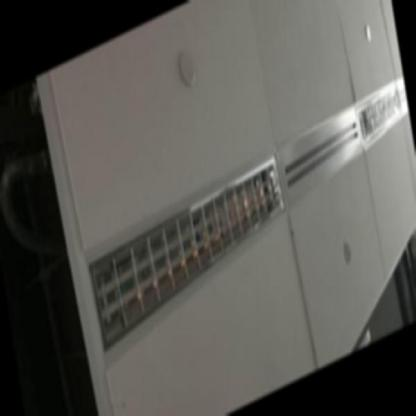light_off: (81, 146, 293, 364), (352, 78, 406, 152)
